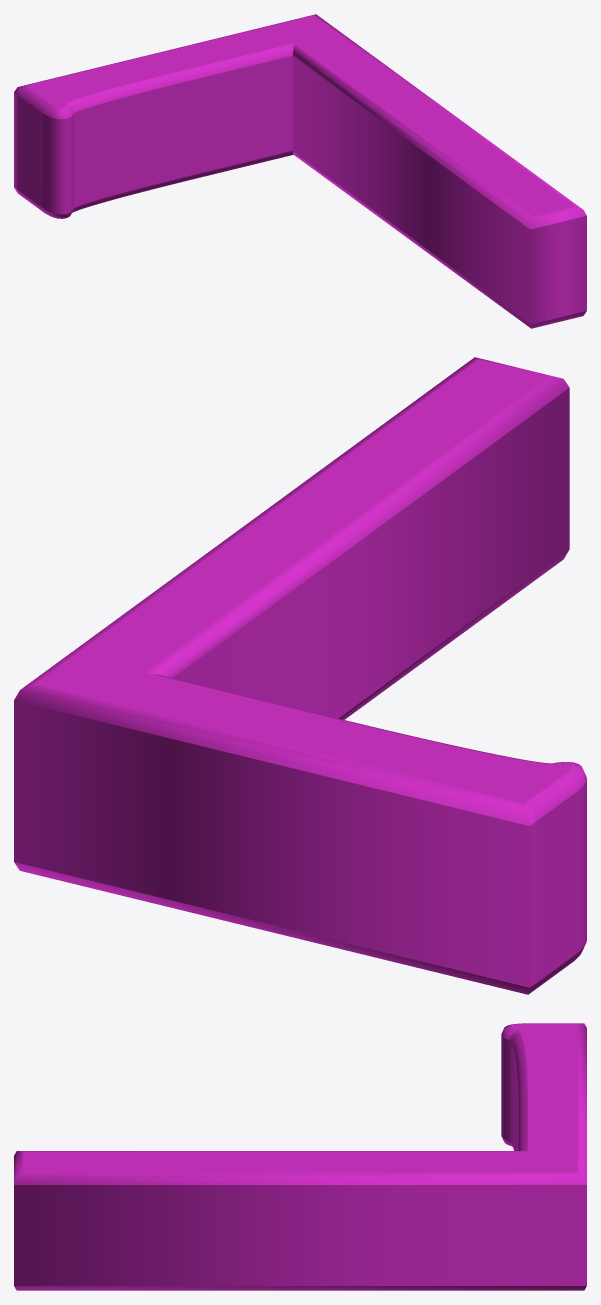
File: Blocky_LetterL.fbx
3 renders of one model, top to bottom at view 1: azimuth 30°, elevation 25°; view 2: azimuth 150°, elevation 25°; view 3: azimuth 270°, elevation 25°, orthographic. The views are drawn at different scales.
Parts seen in each view (by area): view 1: BlockyLetter_L; view 2: BlockyLetter_L; view 3: BlockyLetter_L.
Part boxes in pixels (x1=…): BlockyLetter_L: x1=14, y1=14, x2=586, y2=328; BlockyLetter_L: x1=14, y1=357, x2=586, y2=994; BlockyLetter_L: x1=14, y1=1023, x2=586, y2=1290.
Bounding box in the file's own units: 0.4007 × 0.14 × 0.618.
